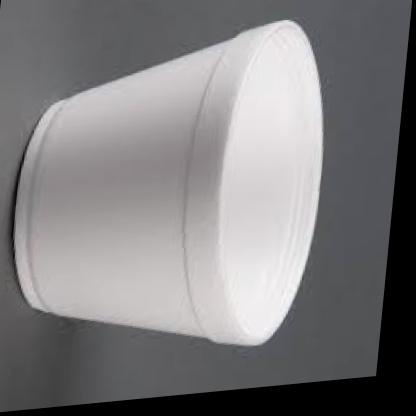trash: (14, 21, 322, 344)
